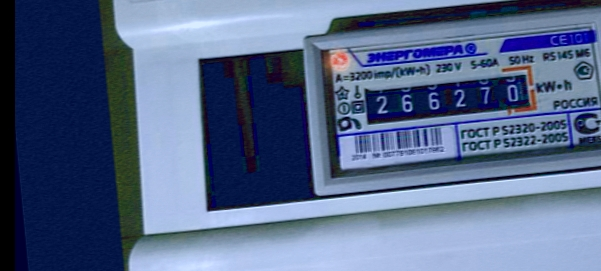0: (506, 81, 520, 103)
2: (374, 92, 390, 114), (453, 86, 467, 108)
6: (426, 89, 441, 109), (401, 92, 415, 113)
7: (478, 83, 493, 106)
screen: (354, 60, 545, 134)
